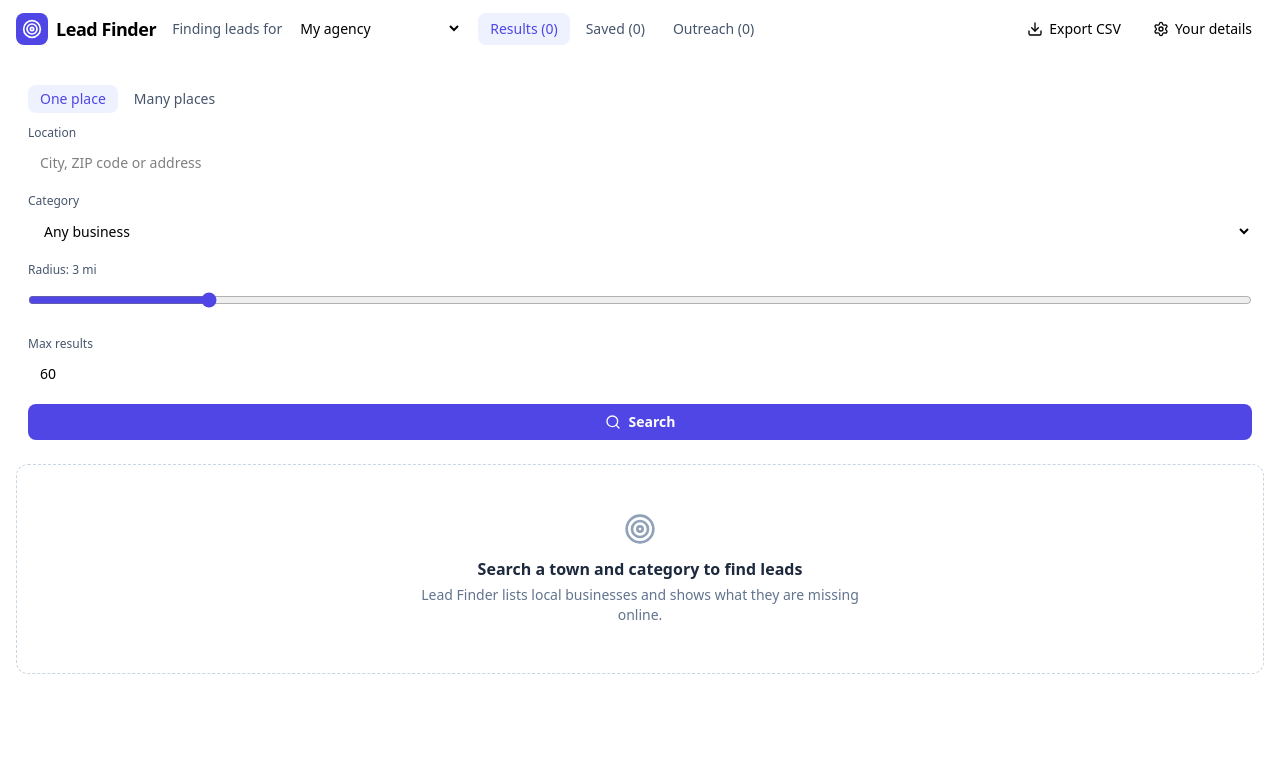
it: chains › does not show the chains filter when there are no chains
The width and height of the screenshot is (1280, 757).
Type "Austin" into the field labelled "Location" at (640, 163), box 28,145 -> 1252,181
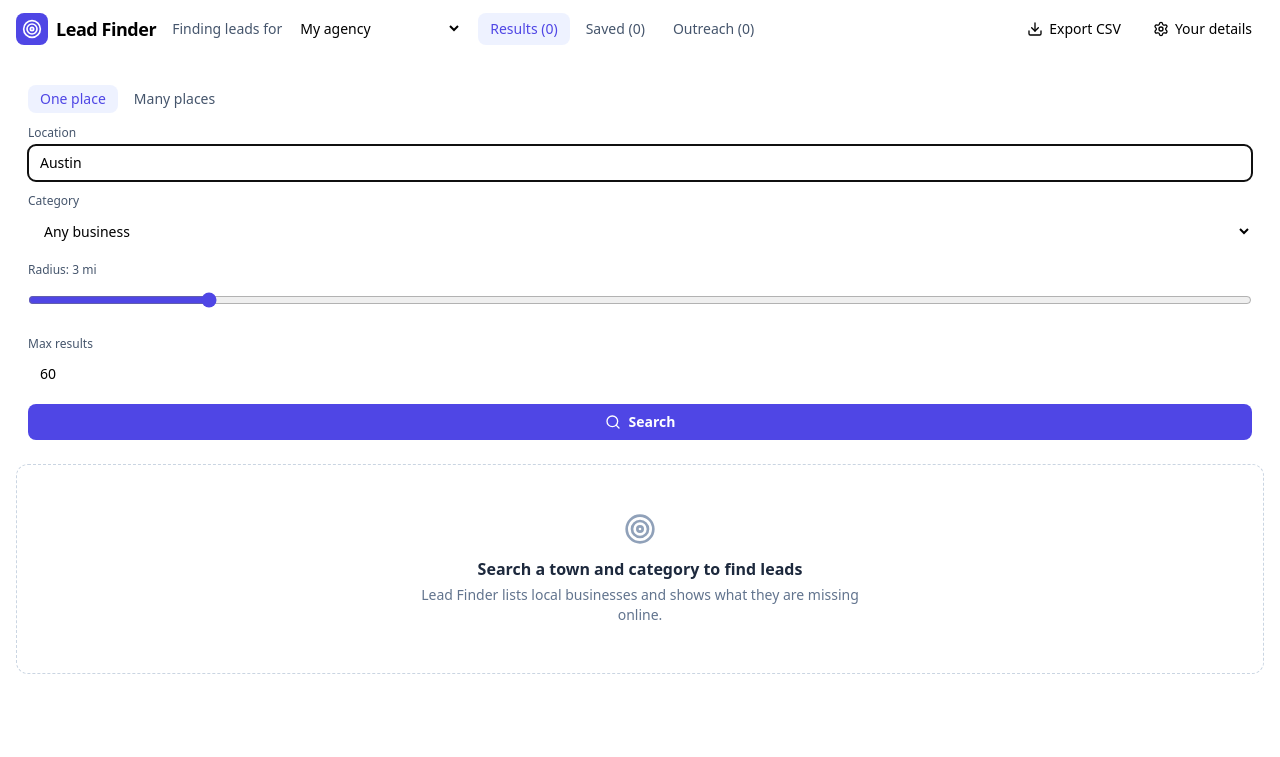
Click the button "Search" at (640, 422), box 28,404 -> 1252,440
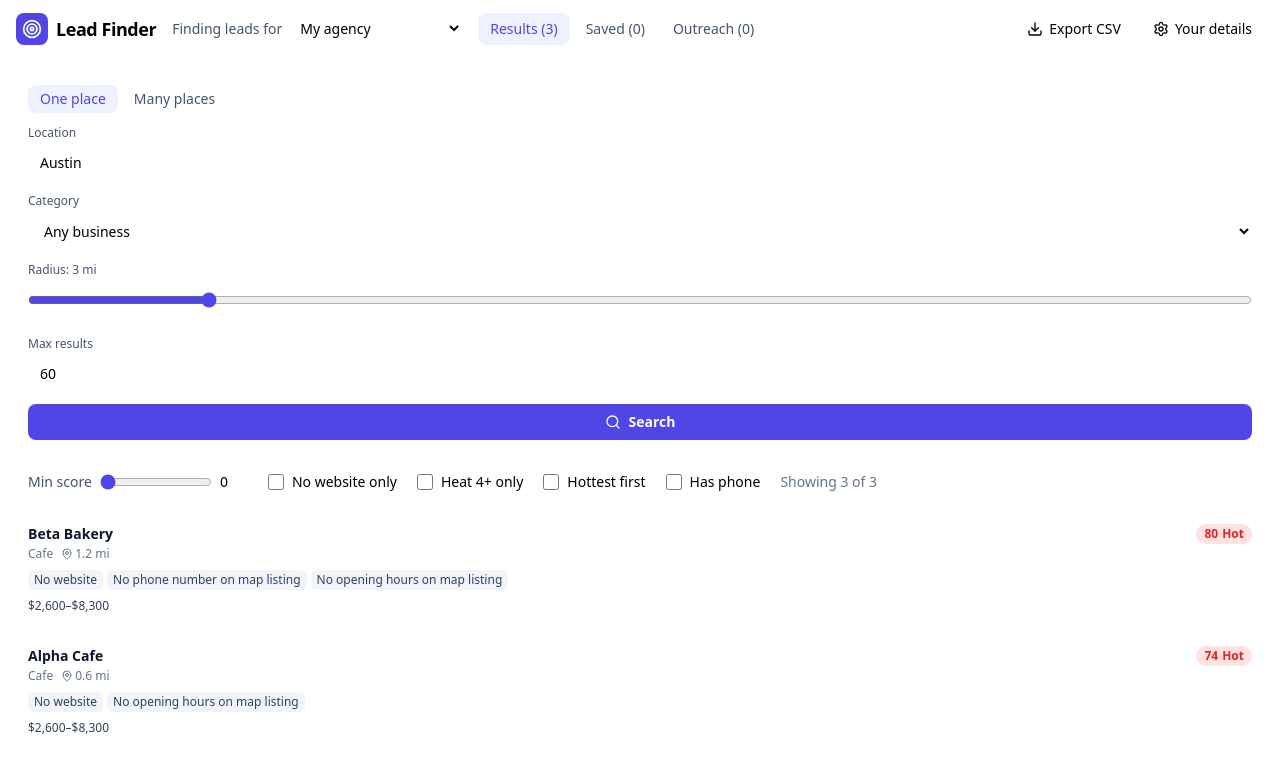
Now the heading "Alpha Cafe" is shown, box 28,646 -> 110,666
